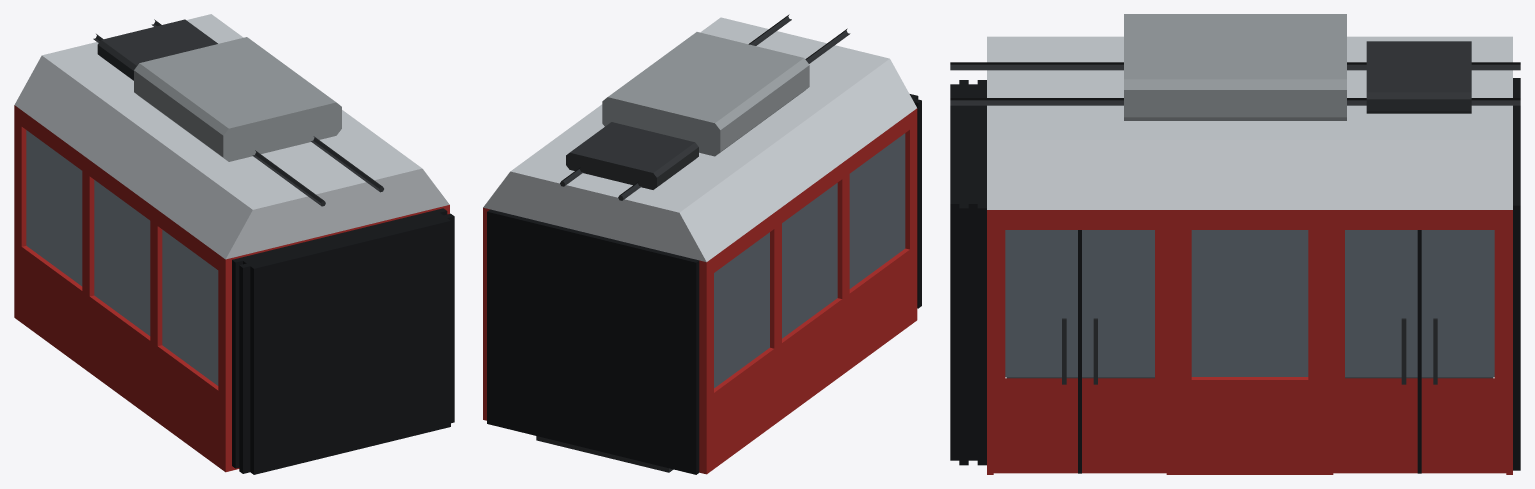
3 views of the same model, side by side, from view 1: azimuth 30°, elevation 25°; view 2: azimuth 150°, elevation 25°; view 3: azimuth 270°, elevation 25° (orthographic). The views are drawn at different scales.
Visible parts, largest first — view 1: 14t-d; view 2: 14t-d; view 3: 14t-d.
Part boxes in pixels (x1=…): 14t-d: x1=14, y1=14, x2=454, y2=474; 14t-d: x1=483, y1=14, x2=921, y2=474; 14t-d: x1=950, y1=14, x2=1520, y2=474.
Bounding box in the file's own units: 2.46 × 3.19 × 4.35.
